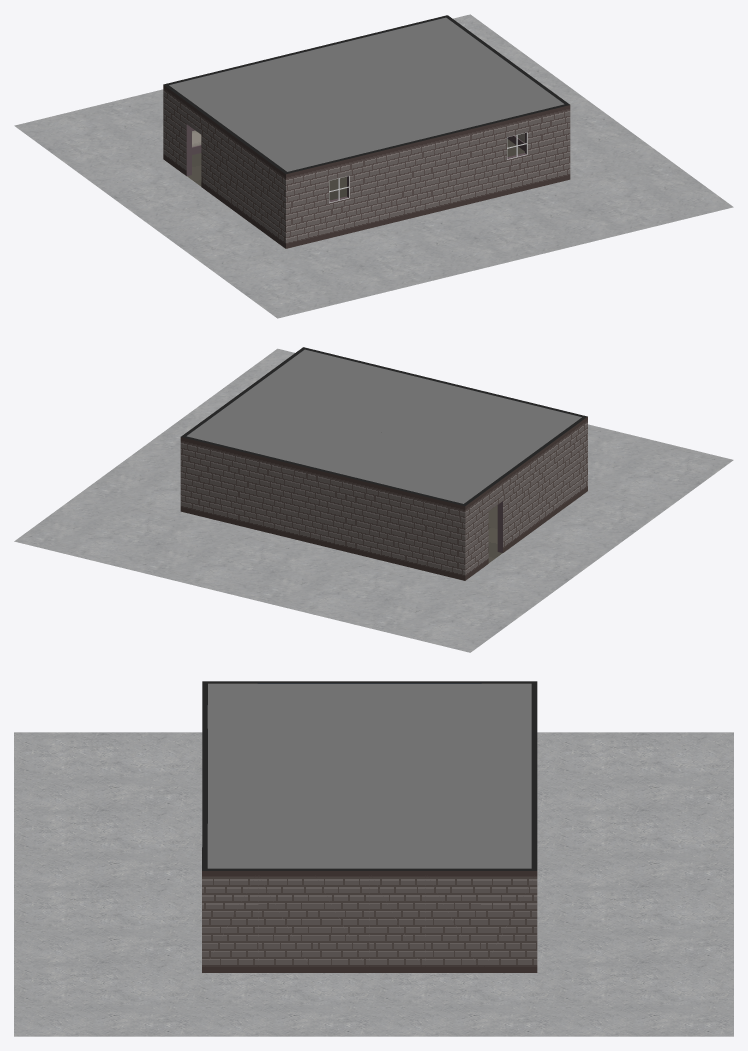
Rendered from new_room_5.glb.
3 views of the same model, one above another, from view 1: azimuth 30°, elevation 25°; view 2: azimuth 150°, elevation 25°; view 3: azimuth 270°, elevation 25° (orthographic). The views are drawn at different scales.
Visible parts, largest first — view 1: Object_2; view 2: Object_2; view 3: Object_2.
Boxes of the visible parts, x1,y1,x2,y2 form: Object_2: (14,14,733,318); Object_2: (14,347,733,652); Object_2: (14,681,733,1036).
Size of the model in its own units: 128 by 20.1 by 128.
52 materials, 45 textured.
